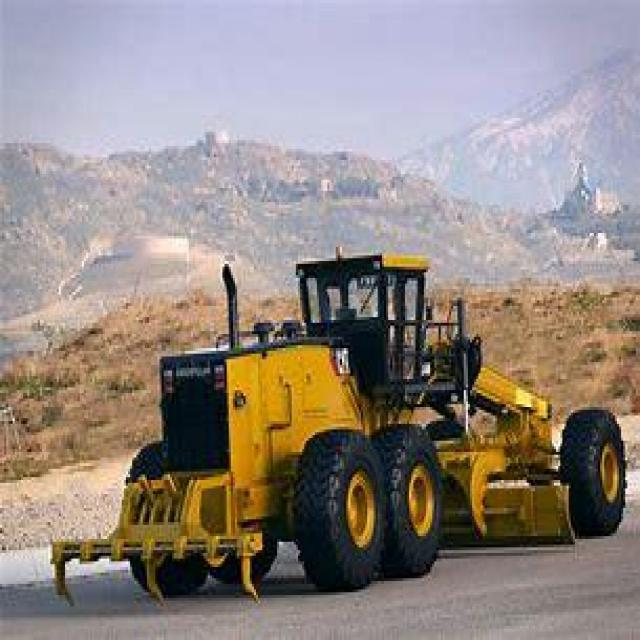Grader: (59, 230, 636, 595)
